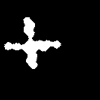single_crochet: (4, 18, 60, 68)
